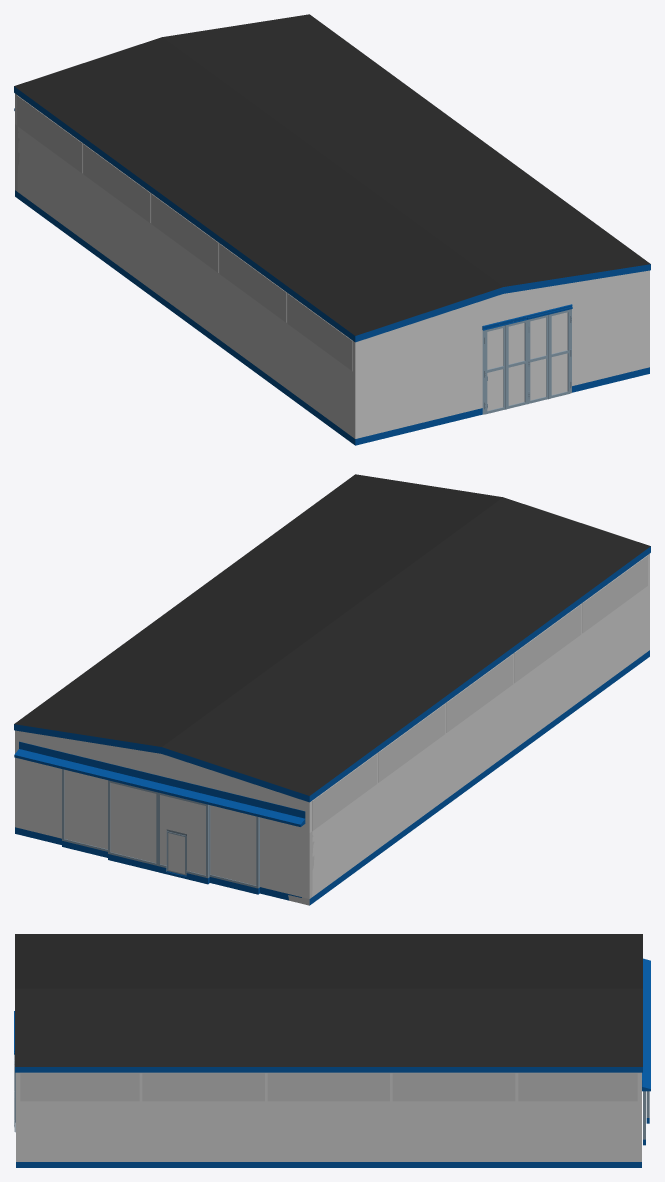
Rendered from edap-hangar-b_LOD03.gltf.
3 views of the same model, one above another, from view 1: azimuth 30°, elevation 25°; view 2: azimuth 150°, elevation 25°; view 3: azimuth 270°, elevation 25° (orthographic). The views are drawn at different scales.
Visible parts, largest first — view 1: roof.003, body.003, rear gate.003; view 2: roof.003, body.003, gate rails.008, gate CR.003, gate CL.003, gate RR.003, gate LL.003; view 3: roof.003, body.003, gate rails.008.
Boxes of the visible parts, box(x1,y1,x2,y2) form: roof.003: box(14, 14, 650, 342); body.003: box(15, 93, 649, 445); rear gate.003: box(482, 309, 571, 414); roof.003: box(14, 474, 650, 802); body.003: box(15, 553, 649, 905); gate rails.008: box(14, 741, 305, 826); gate CR.003: box(158, 792, 209, 884); gate CL.003: box(108, 780, 157, 871); gate RR.003: box(209, 805, 259, 894); gate LL.003: box(62, 769, 107, 857); roof.003: box(15, 934, 642, 1072); body.003: box(16, 1072, 641, 1167); gate rails.008: box(642, 958, 650, 1091).
Bounding box in the file's own units: 16.05 × 6.38 × 32.56.
